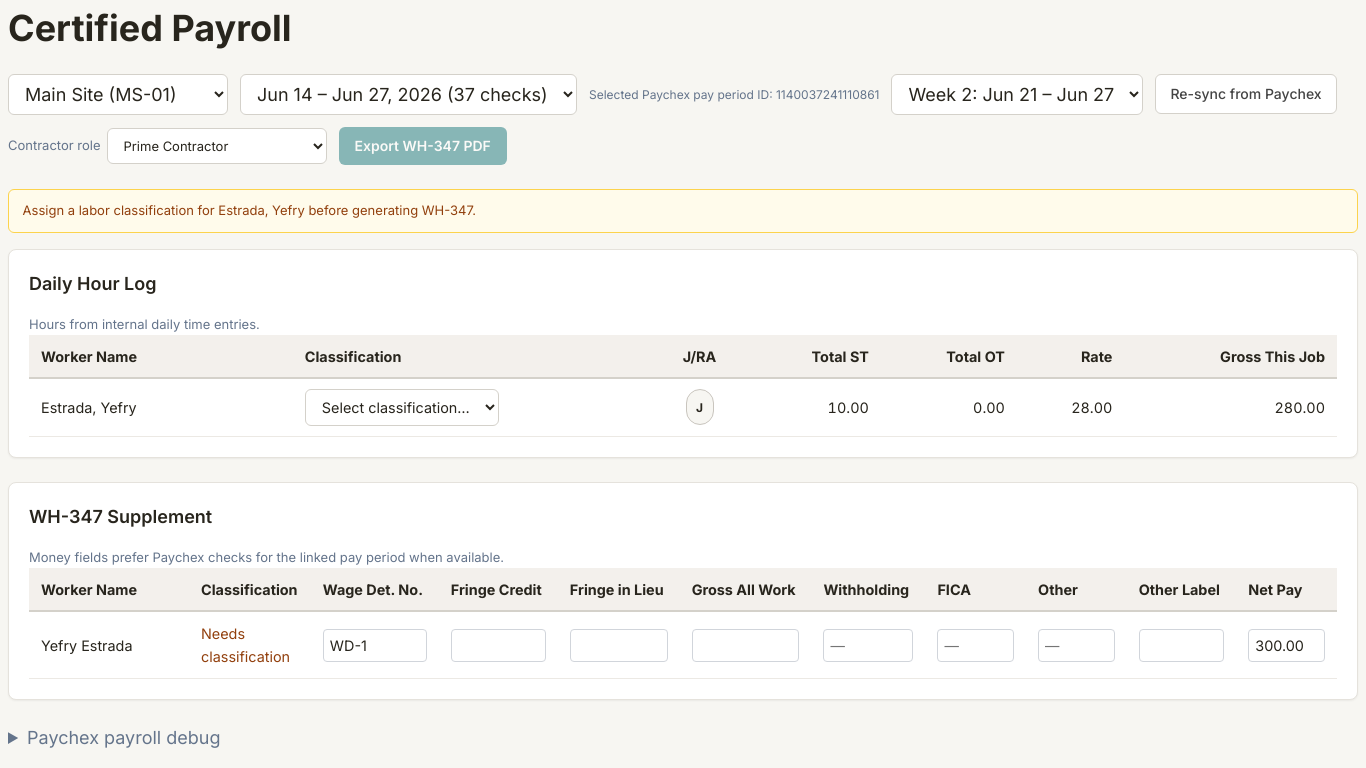
Test case: CertifiedPayrollPage classification assignment › saves classification via PATCH and collapses dropdown to plain text
Select "Laborer" in the dropdown with test id "classification-select-worker-missing": [402, 408] box [305, 389, 499, 426]
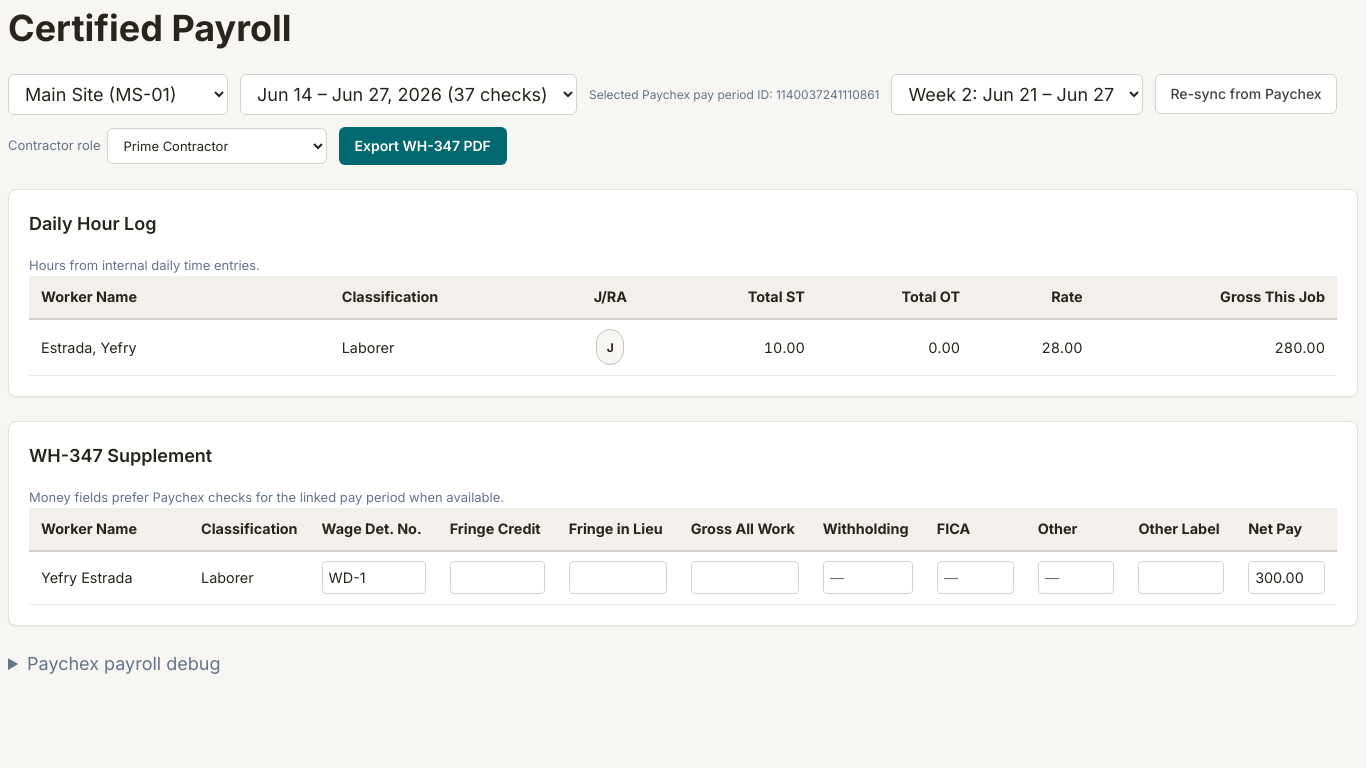
Expected: the dropdown with test id "classification-select-worker-missing" is gone
Expected: the button with test id "export-wh347-button" is enabled, [338, 127, 507, 165]
